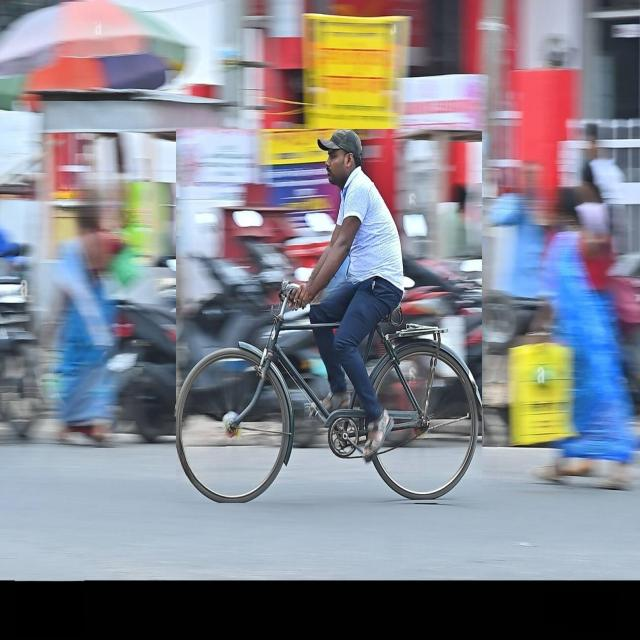bicycle: (176, 129, 482, 503)
